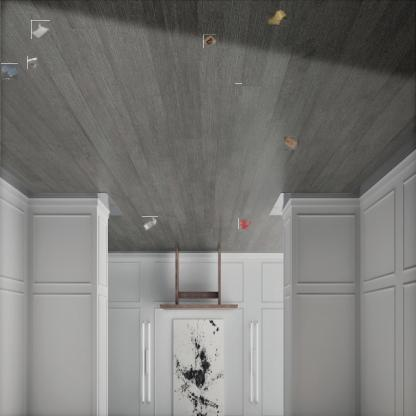dirty: (266, 7, 286, 27), (31, 20, 50, 39), (142, 216, 158, 231), (283, 136, 297, 150), (203, 34, 216, 48), (27, 55, 38, 69), (235, 83, 242, 96)
liquid: (1, 63, 18, 79), (239, 217, 251, 230)
